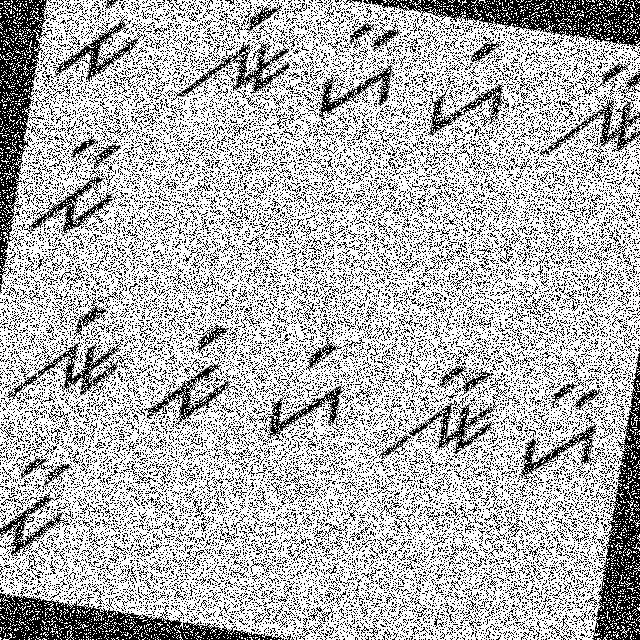han: (512, 372, 614, 498), (307, 13, 408, 132)
hang: (252, 332, 361, 452), (420, 31, 519, 152)
mban: (23, 125, 136, 258), (0, 438, 78, 567)
mbang: (132, 308, 244, 436), (51, 0, 152, 105)
ndan: (376, 348, 506, 476), (536, 44, 639, 179)
ndang: (0, 289, 131, 419), (172, 0, 305, 121)
